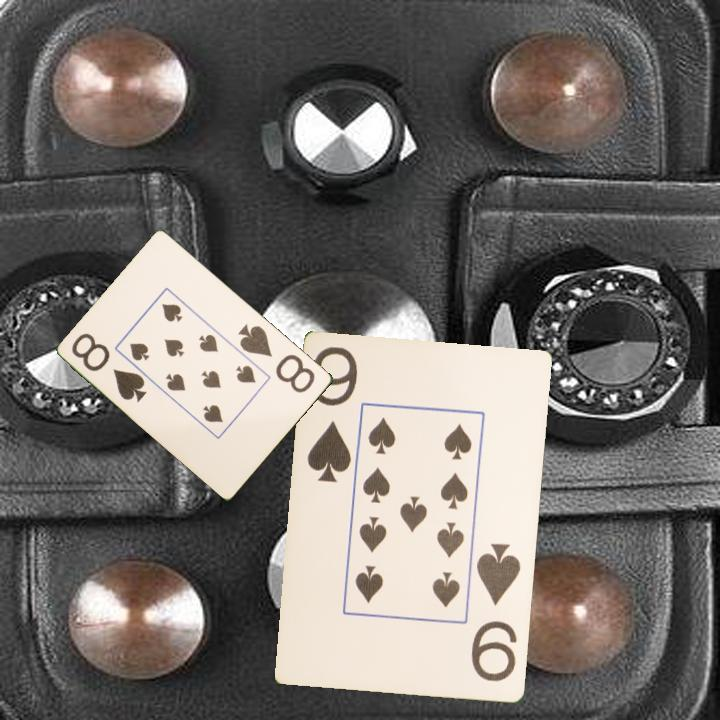8s: (235, 320, 319, 396), (68, 329, 150, 405)
9s: (468, 540, 524, 686), (304, 343, 361, 486)
